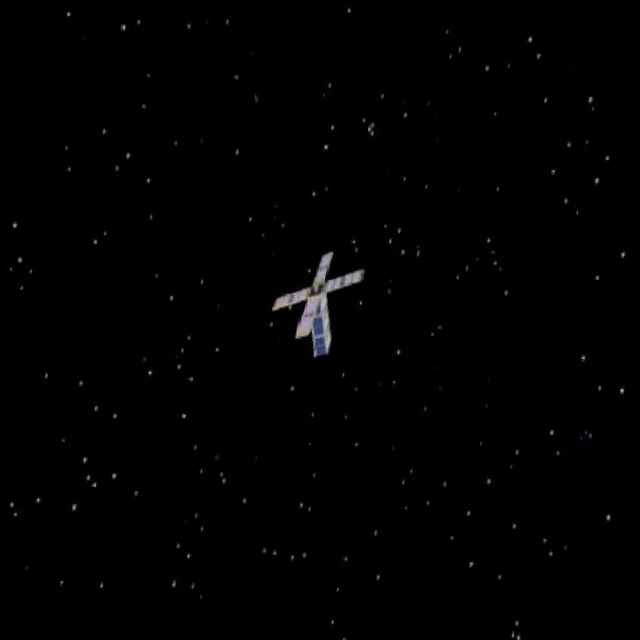medium_debris: (256, 245, 369, 366)
